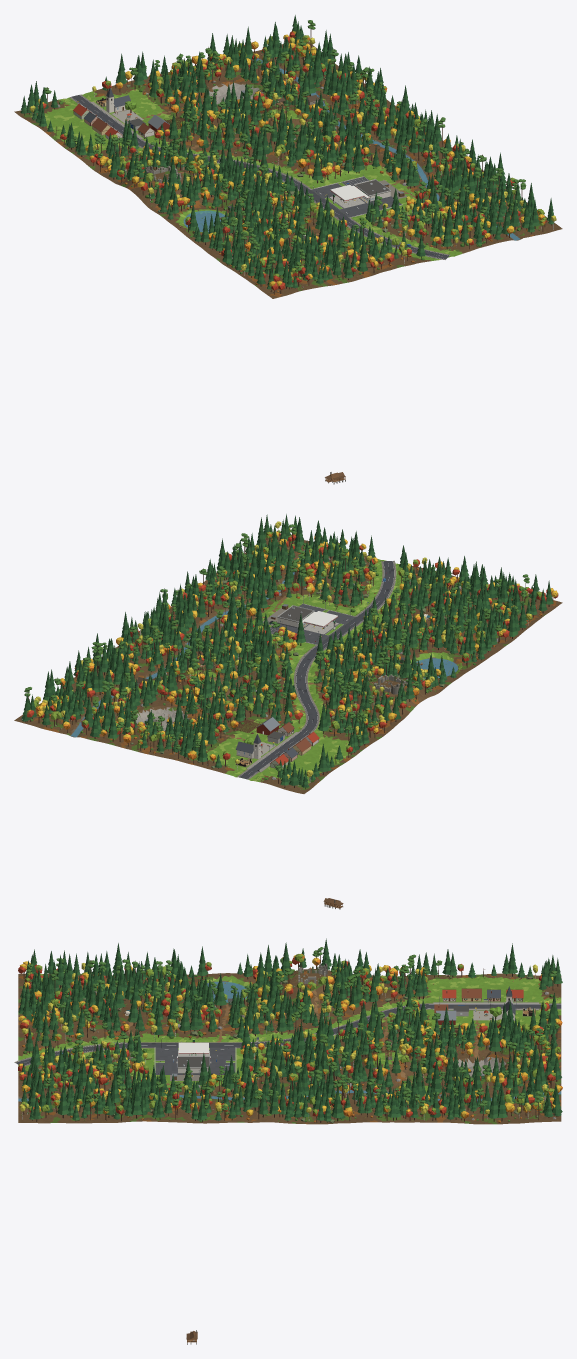
Rendered from map.glb.
The picture shows the model from 3 angles, top to bottom: view 1: azimuth 30°, elevation 25°; view 2: azimuth 150°, elevation 25°; view 3: azimuth 270°, elevation 25°; orthographic projection. The views are drawn at different scales.
Parts seen in each view (by area): view 1: Gelände, Fahrbahn, Vorplatz_Asphalt; view 2: Gelände, Fahrbahn, Vorplatz_Asphalt; view 3: Gelände, Fahrbahn, Vorplatz_Asphalt.
Part boxes in pixels (x1,y1,x2,y2): Gelände: (14, 42, 562, 298); Fahrbahn: (71, 95, 449, 259); Vorplatz_Asphalt: (311, 177, 401, 217); Gelände: (14, 535, 562, 793); Fahrbahn: (239, 561, 394, 779); Vorplatz_Asphalt: (270, 604, 355, 644); Gelände: (18, 969, 561, 1124); Fahrbahn: (15, 1004, 561, 1065); Vorplatz_Asphalt: (155, 1047, 235, 1074).
Size of the model in its own units: 223 by 234 by 344.
